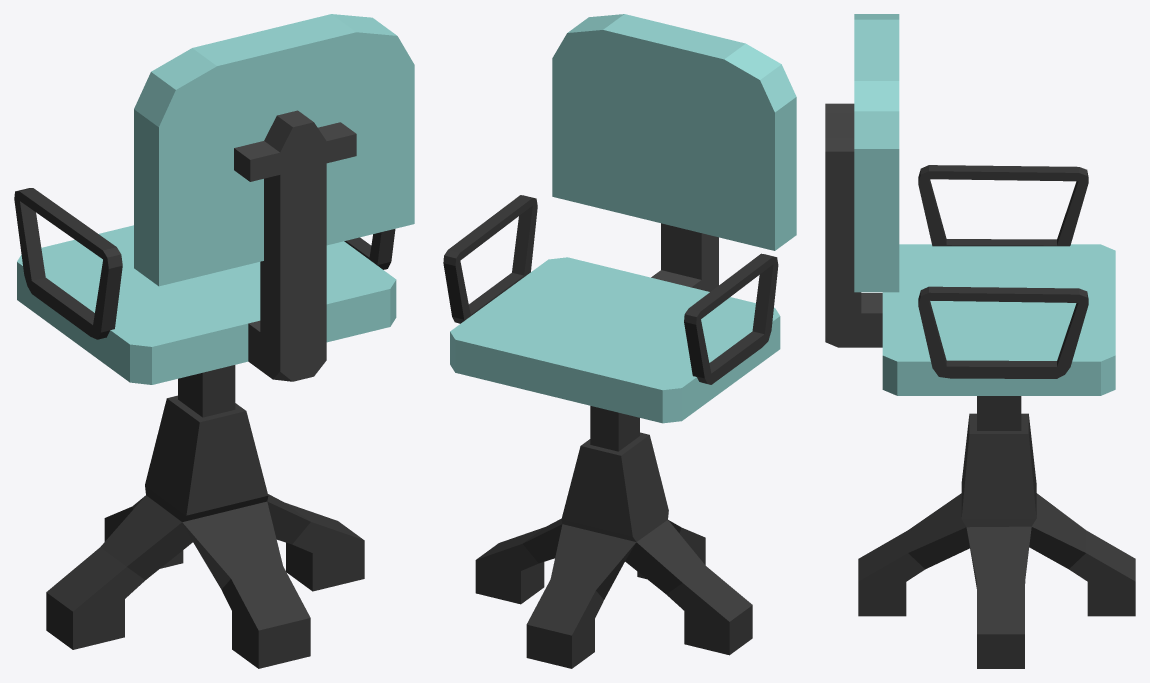
File: Chair.002.fbx
The picture shows the model from 3 angles, left to right: view 1: azimuth 30°, elevation 25°; view 2: azimuth 150°, elevation 25°; view 3: azimuth 270°, elevation 25°; orthographic projection. The views are drawn at different scales.
Visible parts, largest first — view 1: Chair.002; view 2: Chair.002; view 3: Chair.002.
Part boxes in pixels (x1,y1,x2,y2): Chair.002: (14, 14, 414, 668); Chair.002: (443, 14, 796, 668); Chair.002: (825, 14, 1135, 668).
Bounding box in the file's own units: 183 × 366 × 186.
